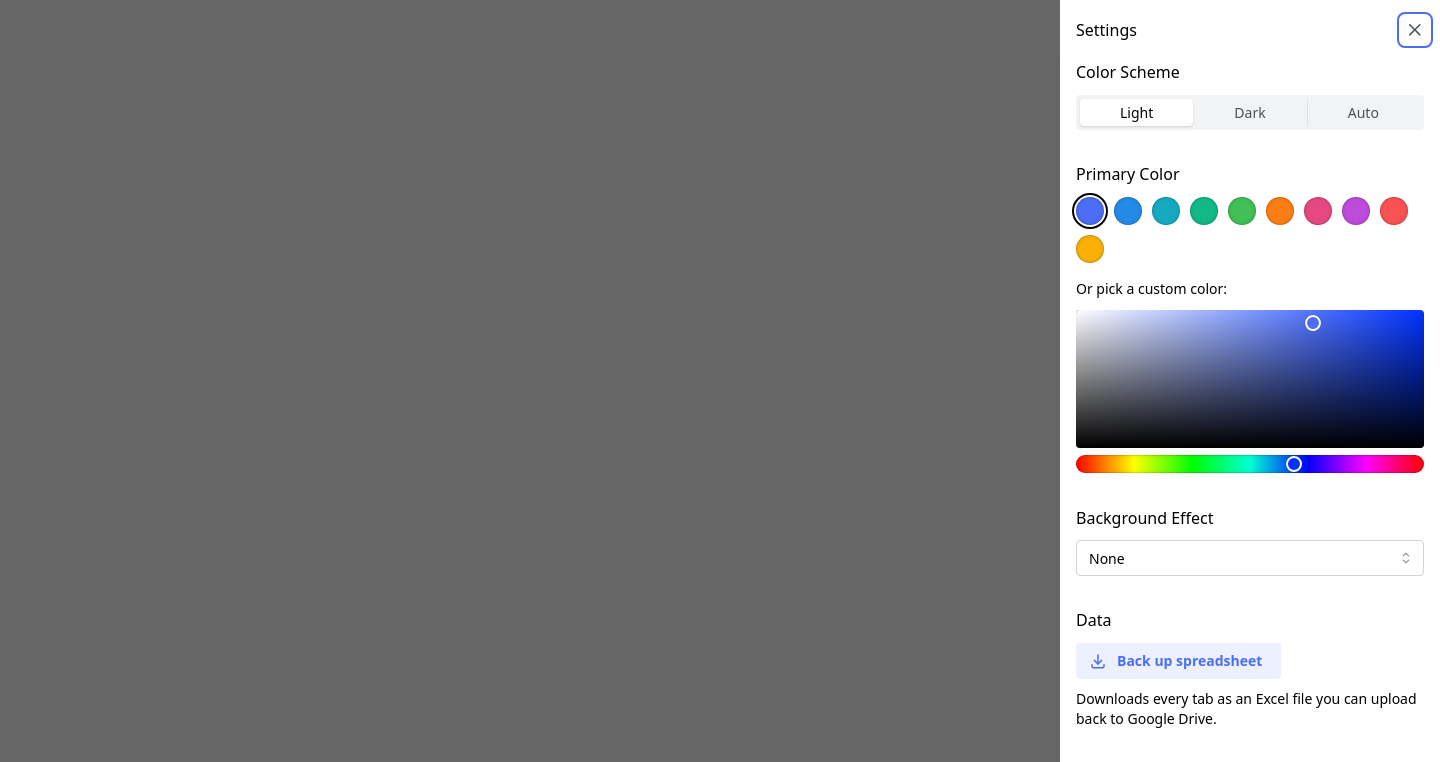
the background picker › remembers the background that was picked
Click the field showing "None" at (1250, 558), box x1=1076 y1=540 x2=1424 y2=576
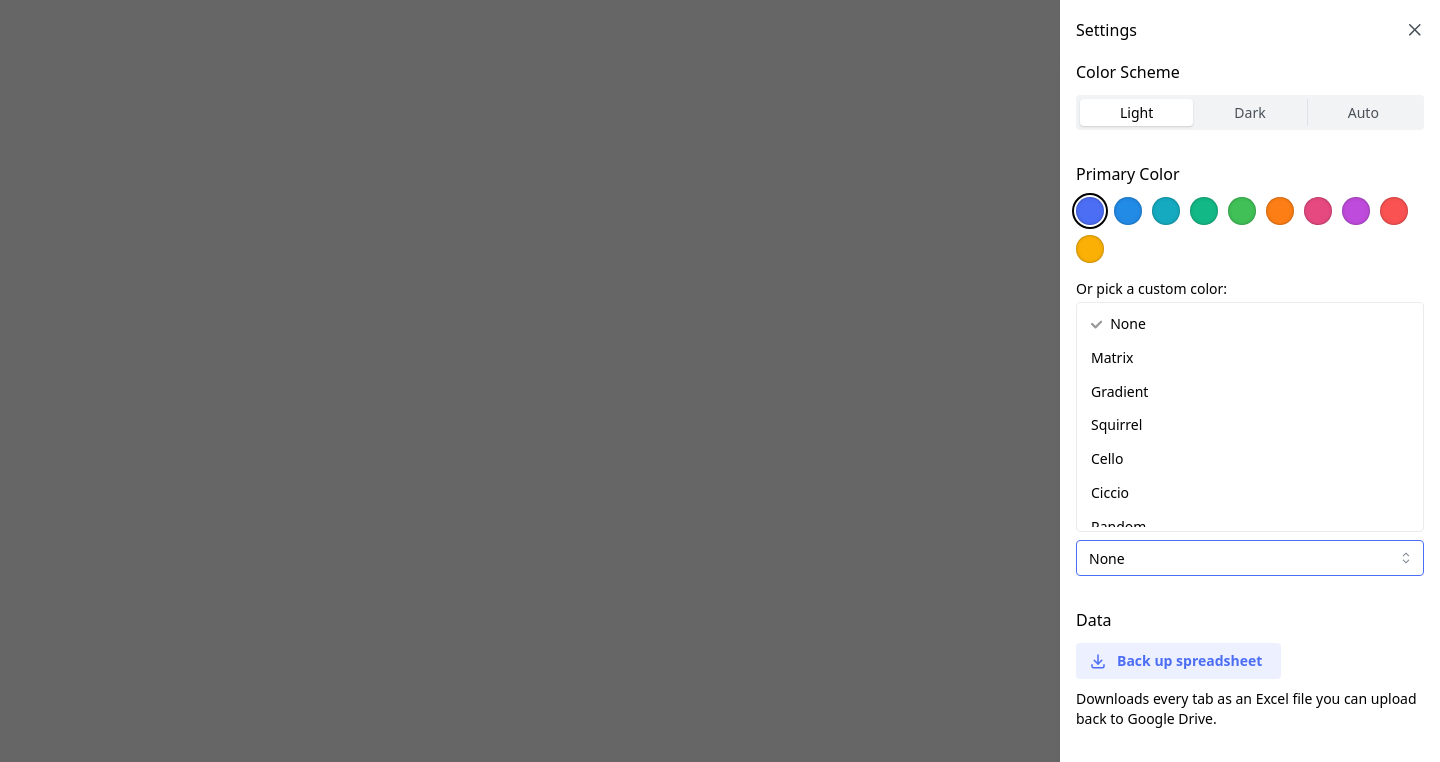
Click the option "Squirrel" at (1117, 425), box x1=1091 y1=415 x2=1142 y2=434
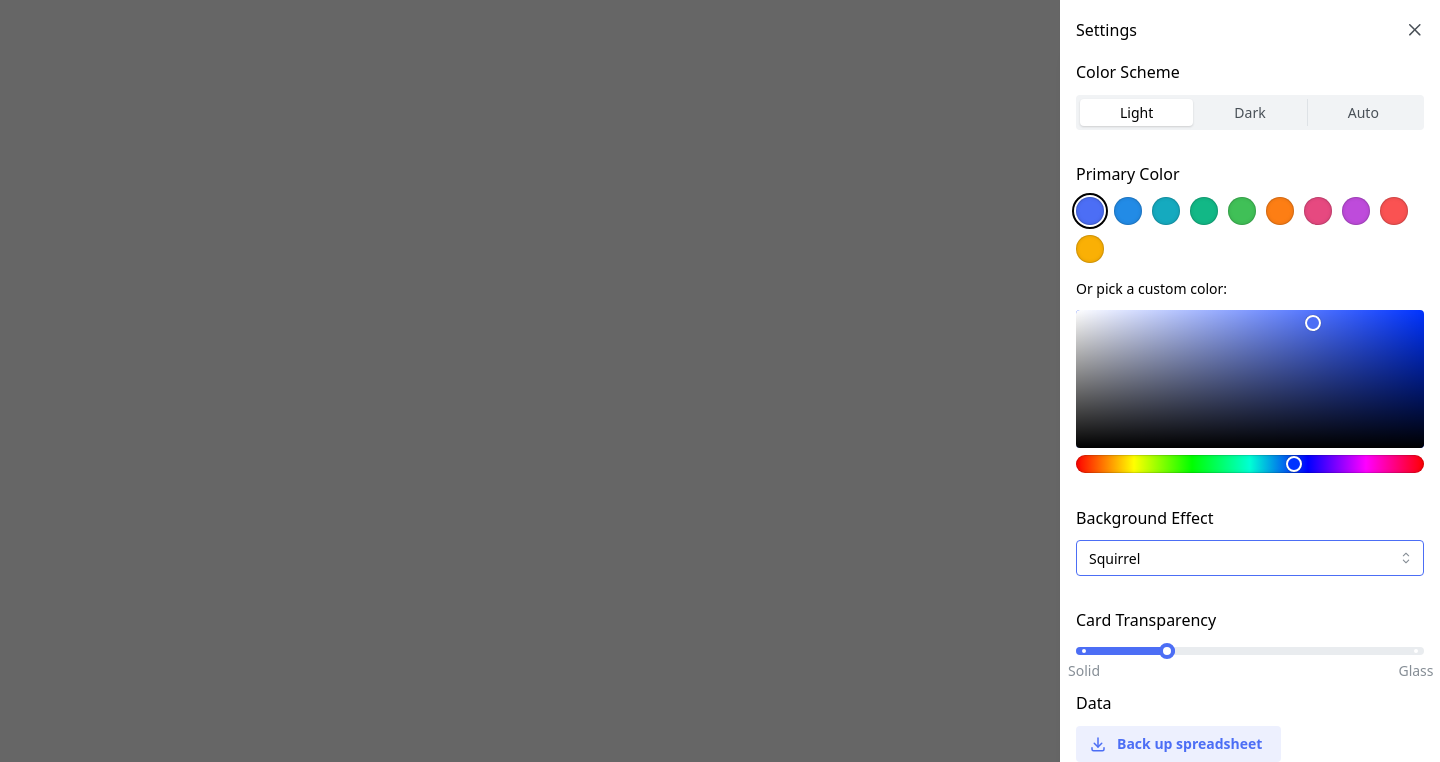
Result: the field showing "Squirrel" is shown at x1=1076 y1=540 x2=1424 y2=576
